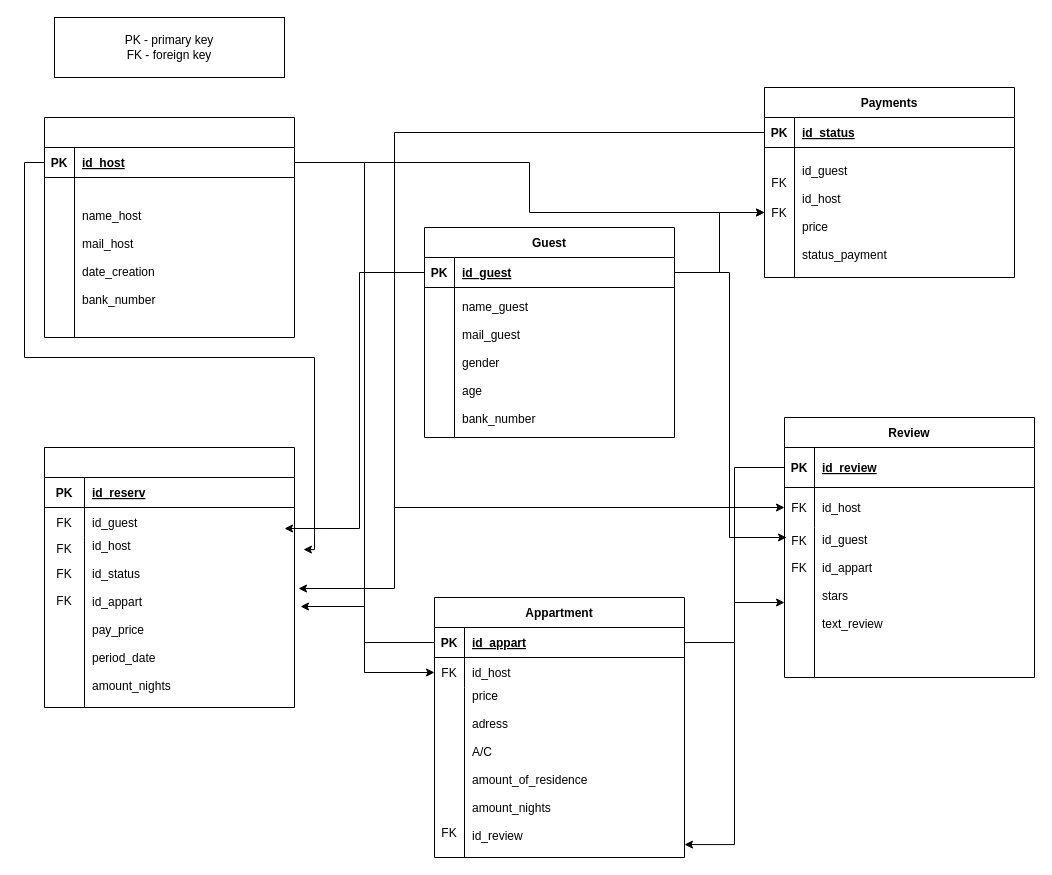
Image size: 1052x875. Some labels were removed from this diagram. Each missing label, with the box of its shape:
Hosts: (44, 116, 294, 338)
Reservation: (44, 446, 294, 708)
